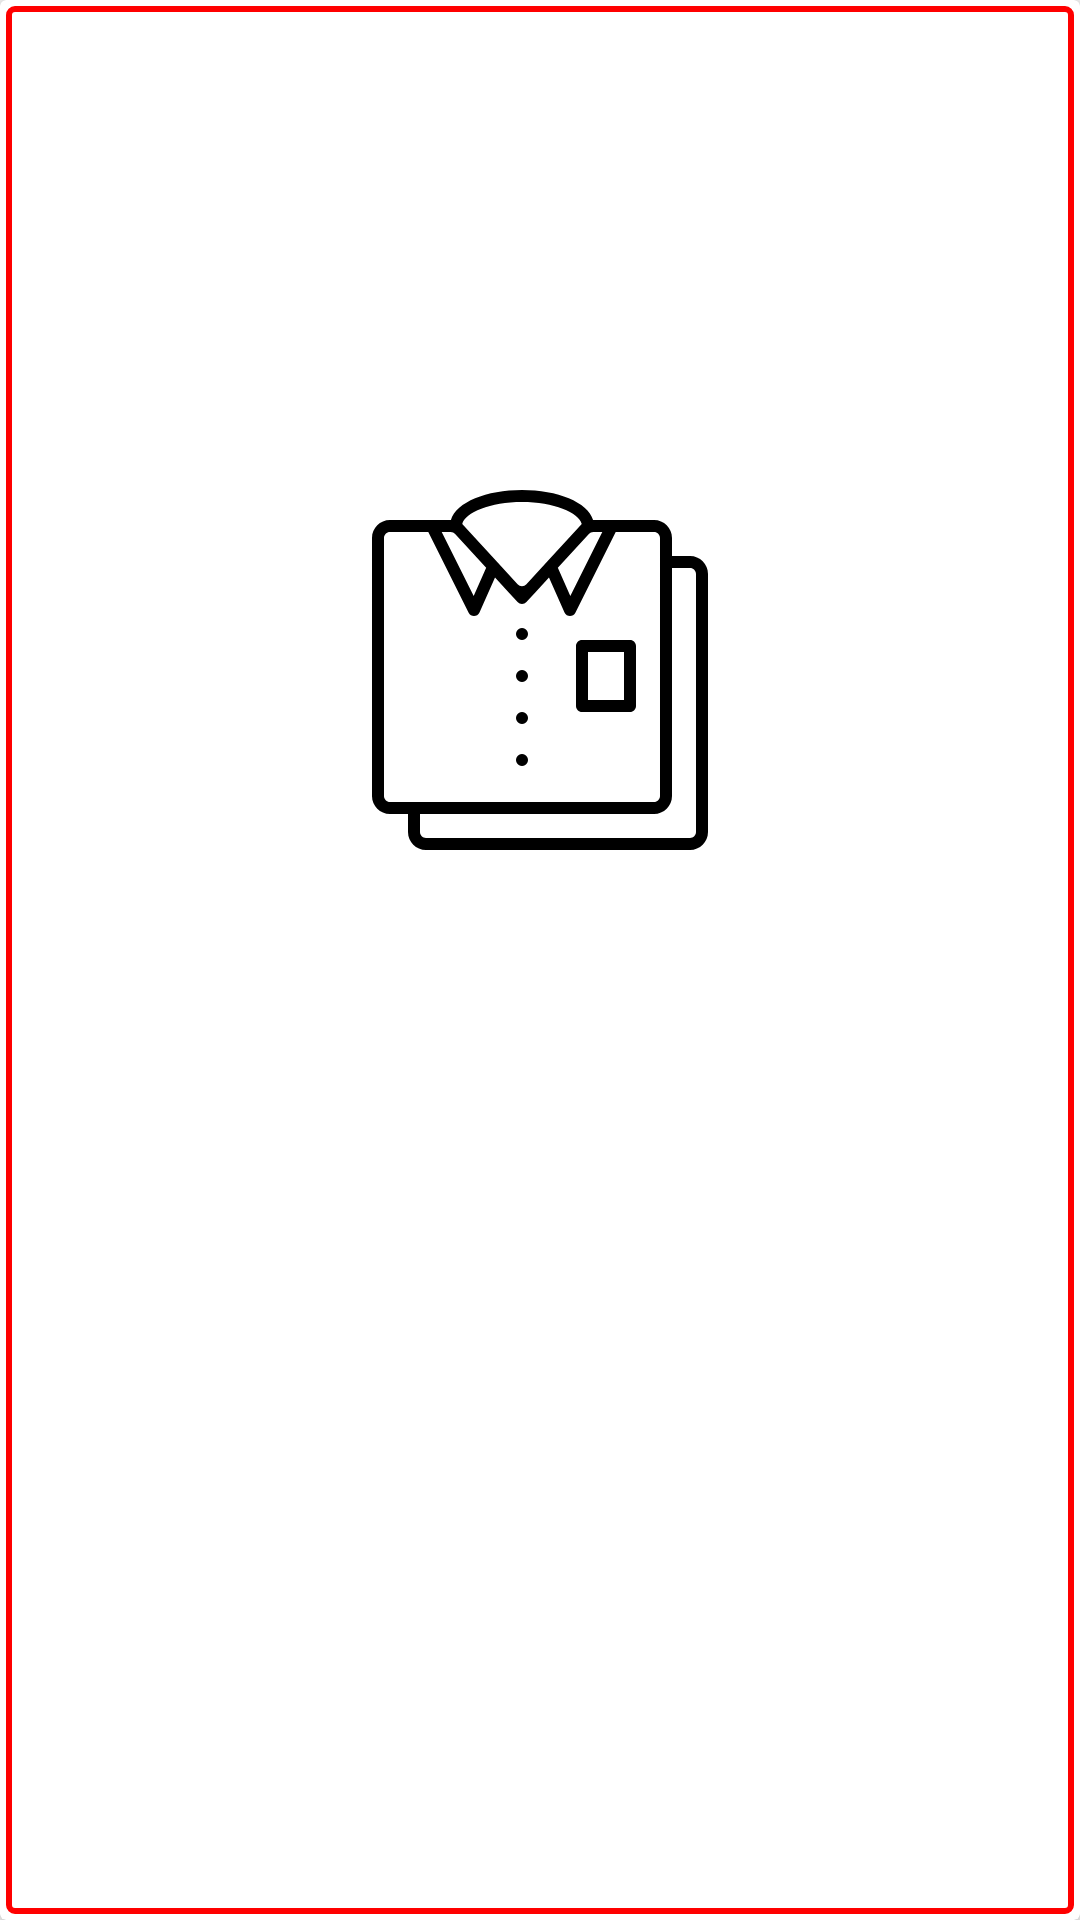

Named icons in this screenshot (1080*1920) and their centers, point (x, y):
shirt: point (540, 670)
